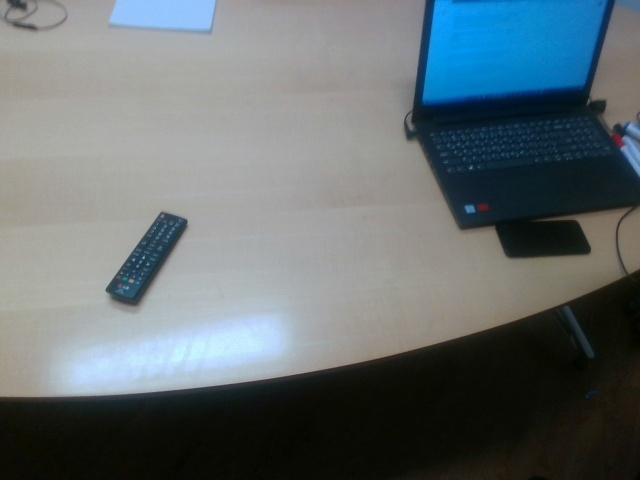remote: (106, 212, 188, 308)
